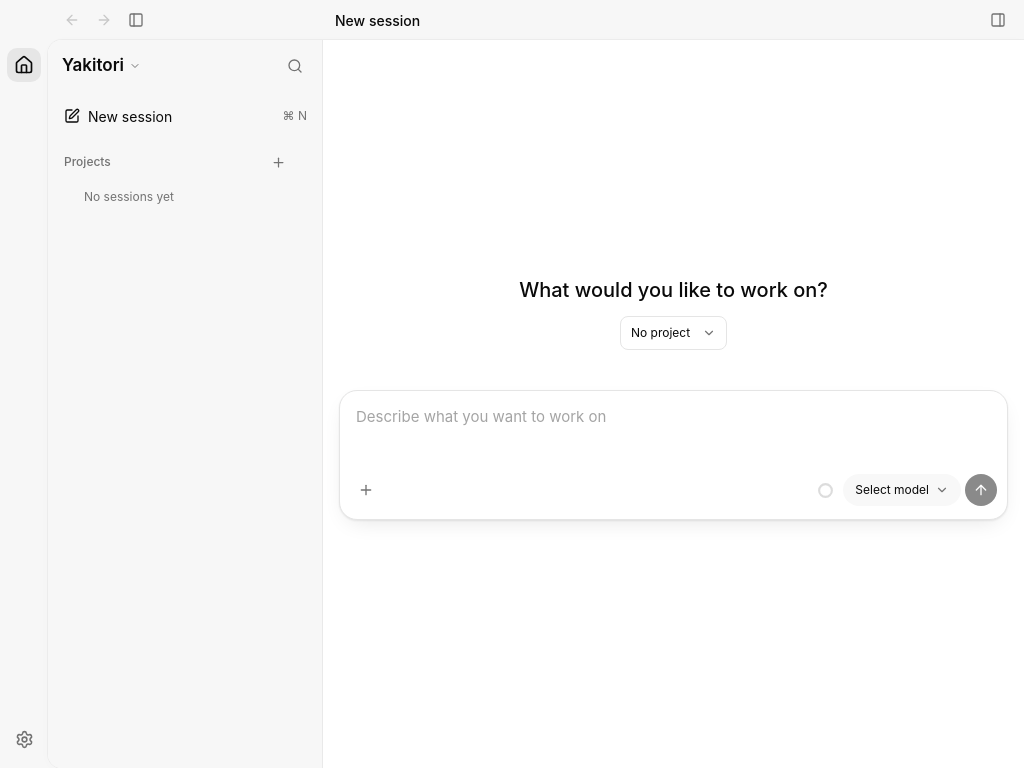
sidebar › does not present an API key connection as a subscription account
Click the button named "Settings" at x=24, y=739, box [7,722,41,756]
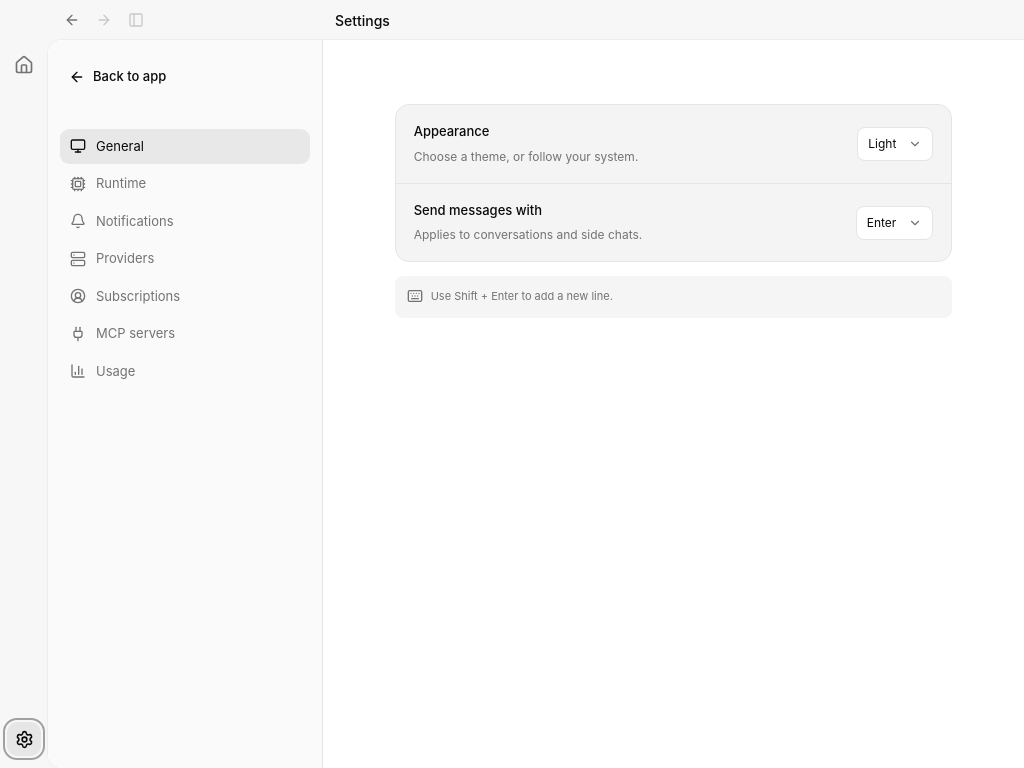
Click the button "Subscriptions" at x=185, y=296, box [60,278,310,314]
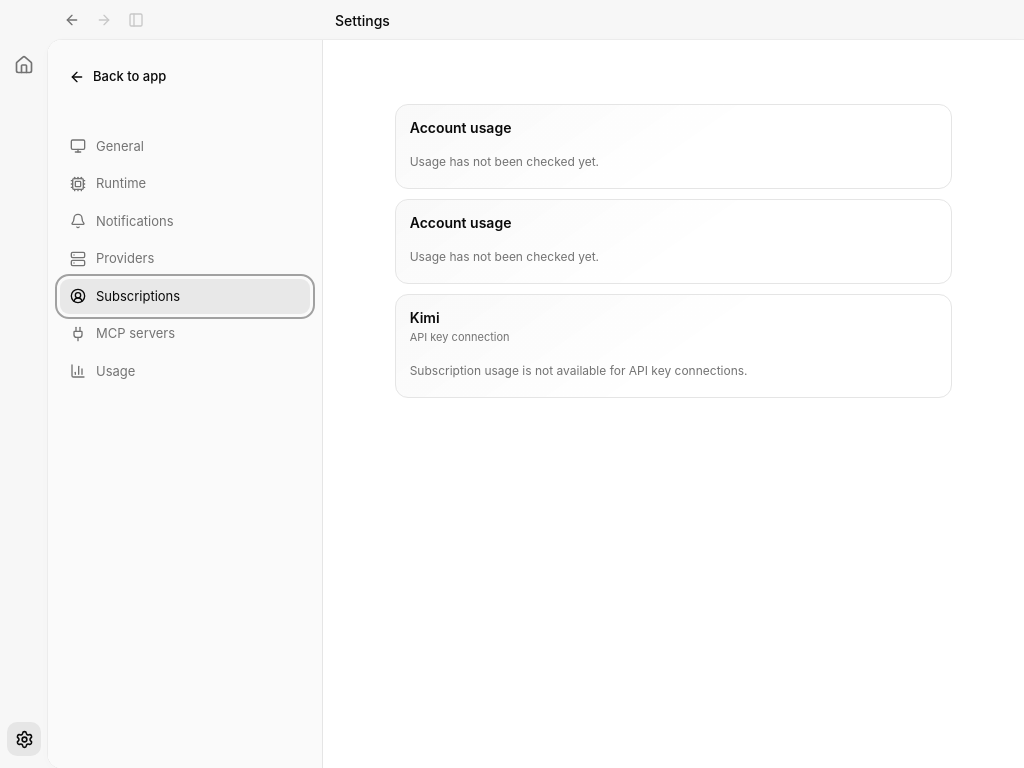
expect the text "API key connection" is shown: met, box [410,329,510,346]
expect the text "Subscription usage is not available for API key connections." is shown: met, box [410,362,748,378]
